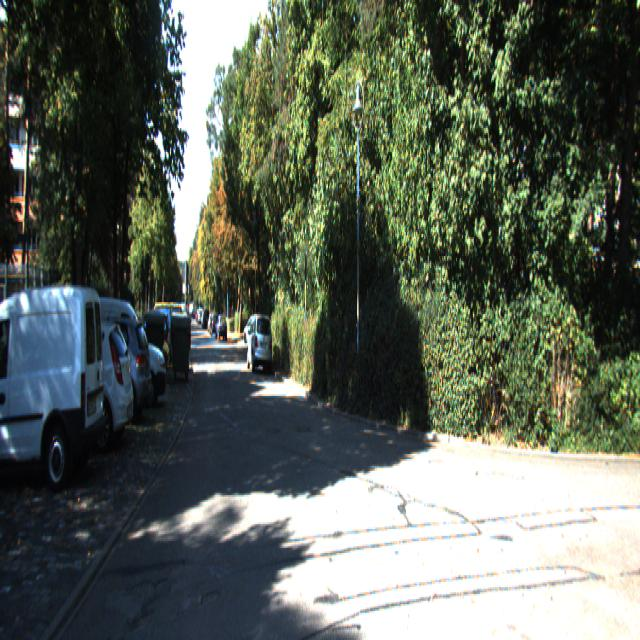Car: (0, 282, 106, 496), (7, 310, 136, 456), (54, 312, 154, 428), (85, 296, 168, 412), (247, 312, 274, 376)
